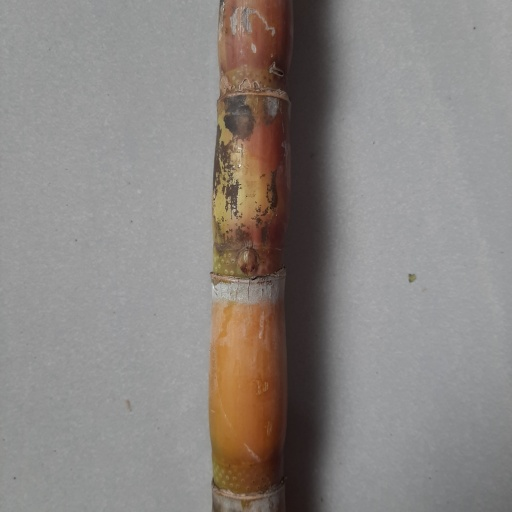Bud: (235, 247, 262, 278)
